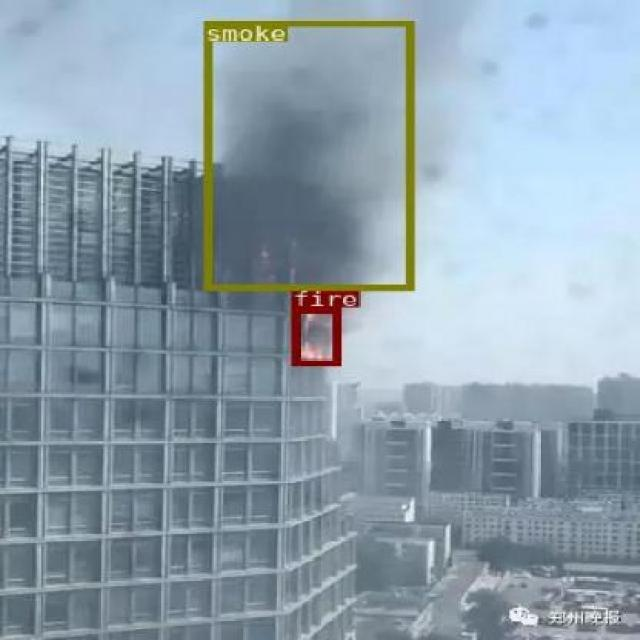Fire: (290, 307, 338, 364)
Smoke: (203, 19, 412, 290)
